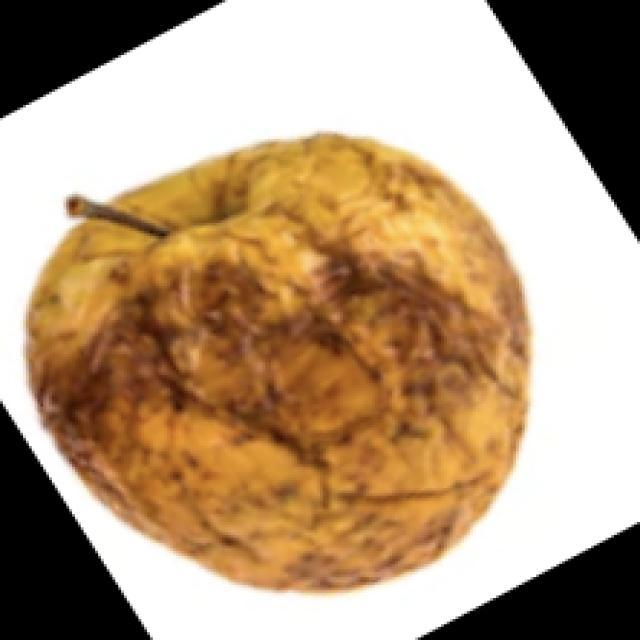Rotten: (30, 127, 527, 580)
